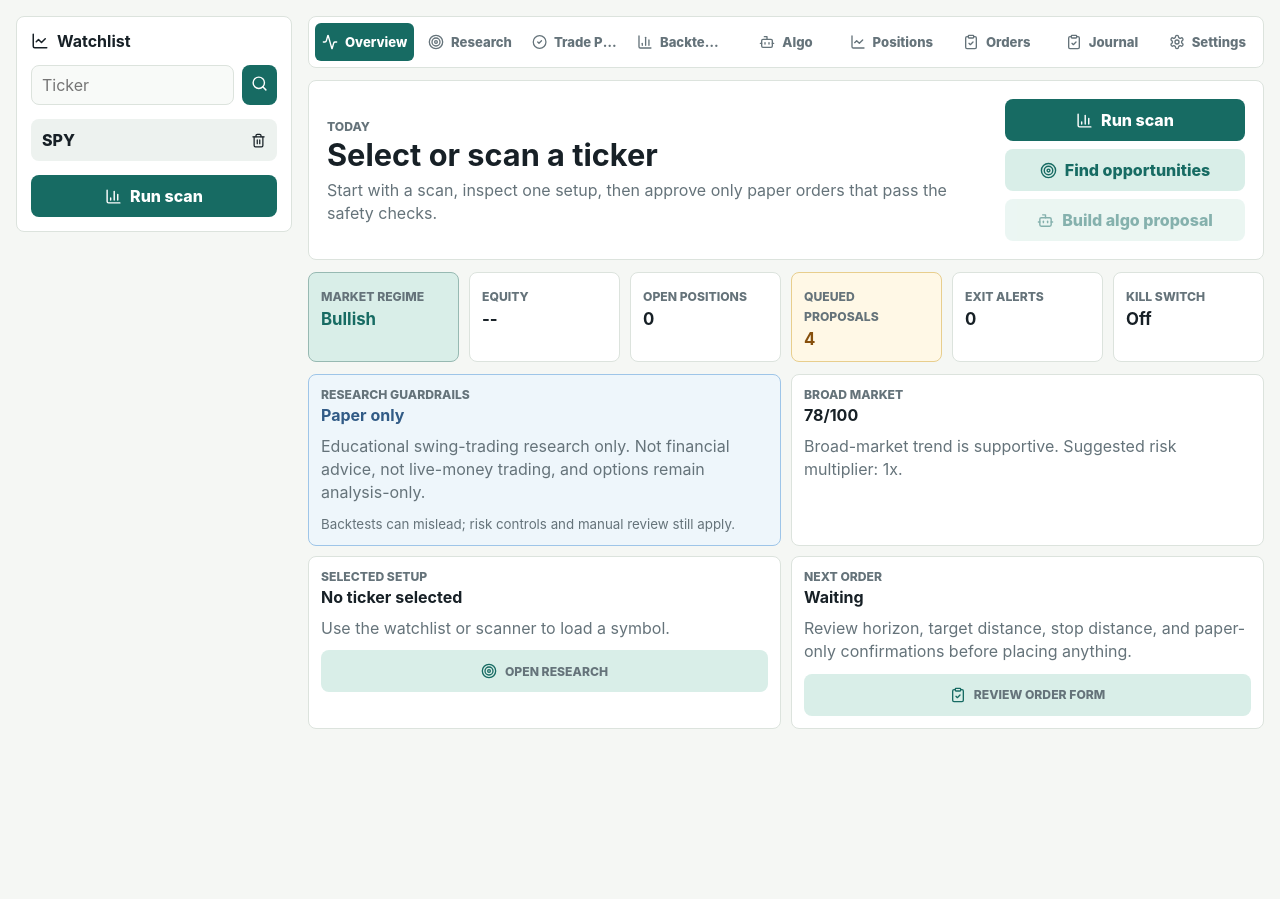
Test: dashboard › requires explicit Algo paper execution confirmations
Step 1. Click the button "Algo" → (786, 42), box [736,23,836,61]
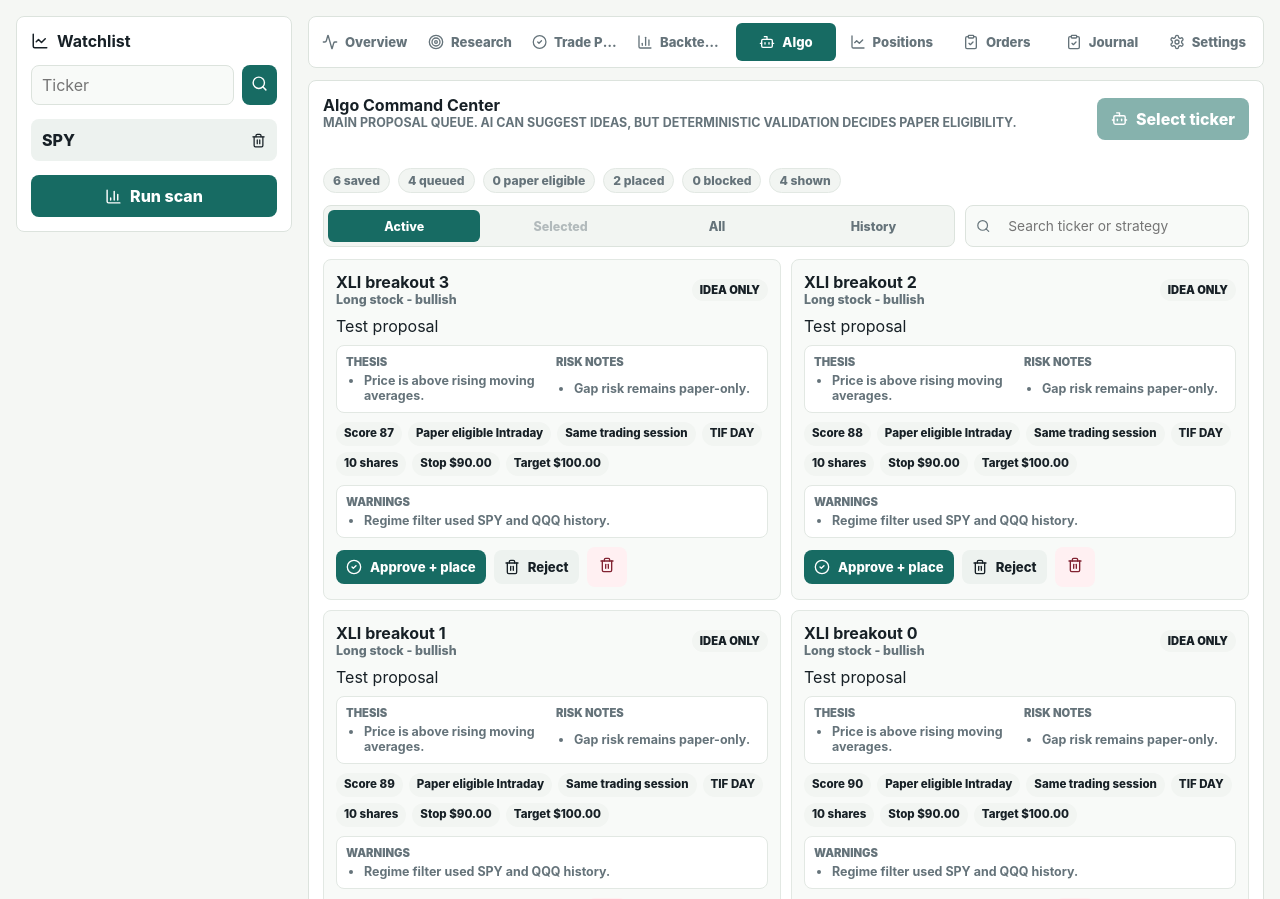
Step 2. Click the button "Approve + place" below "87" → (411, 568), box [336,550,486,584]
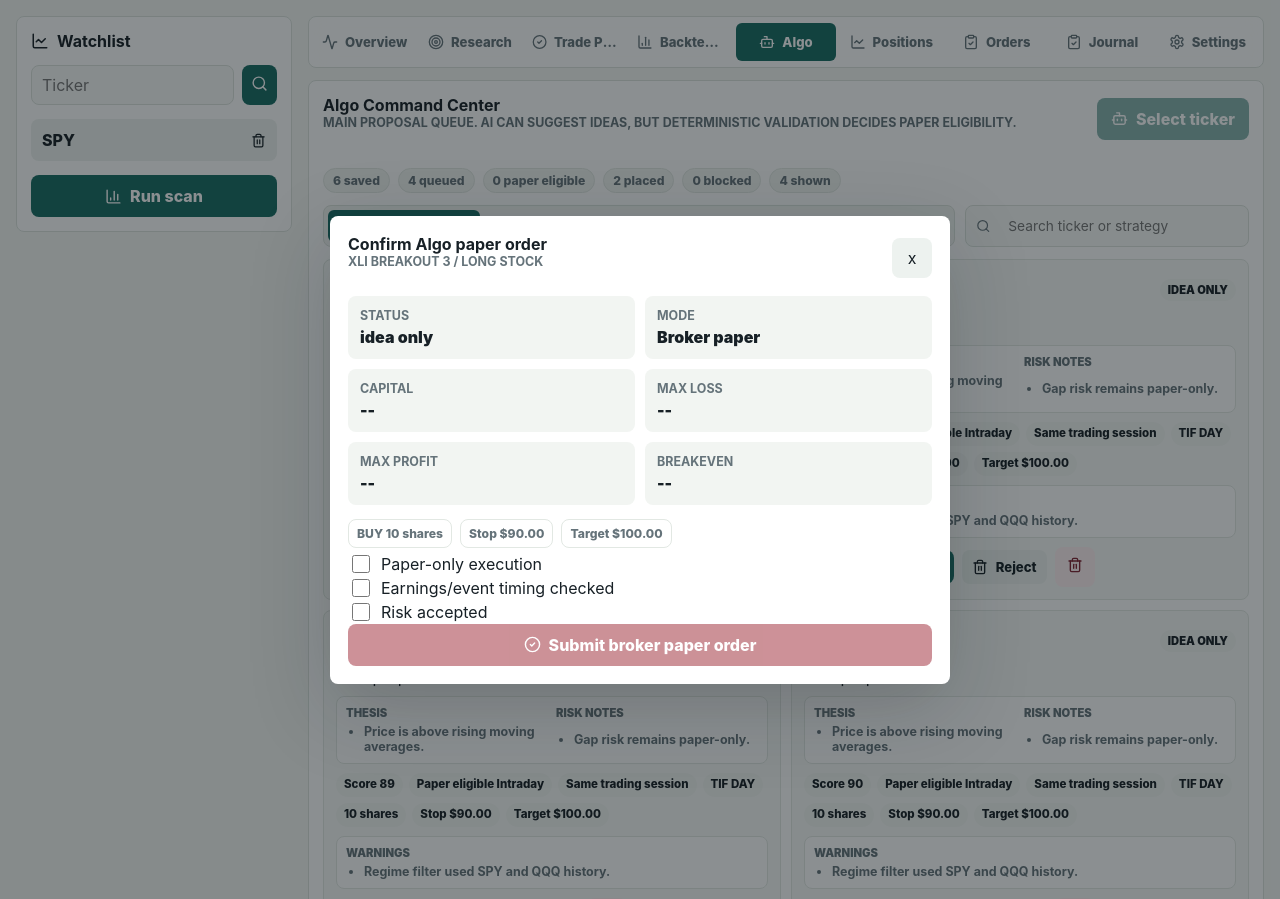
Expected: the dialog named "Confirm Algo paper execution" is shown, [330,216,950,684]
Expected: the button "Submit broker paper order" is disabled, [348,624,932,666]
Step 3. Click the checkbox labelled "Paper-only execution" → (361, 564), box [352,555,370,573]
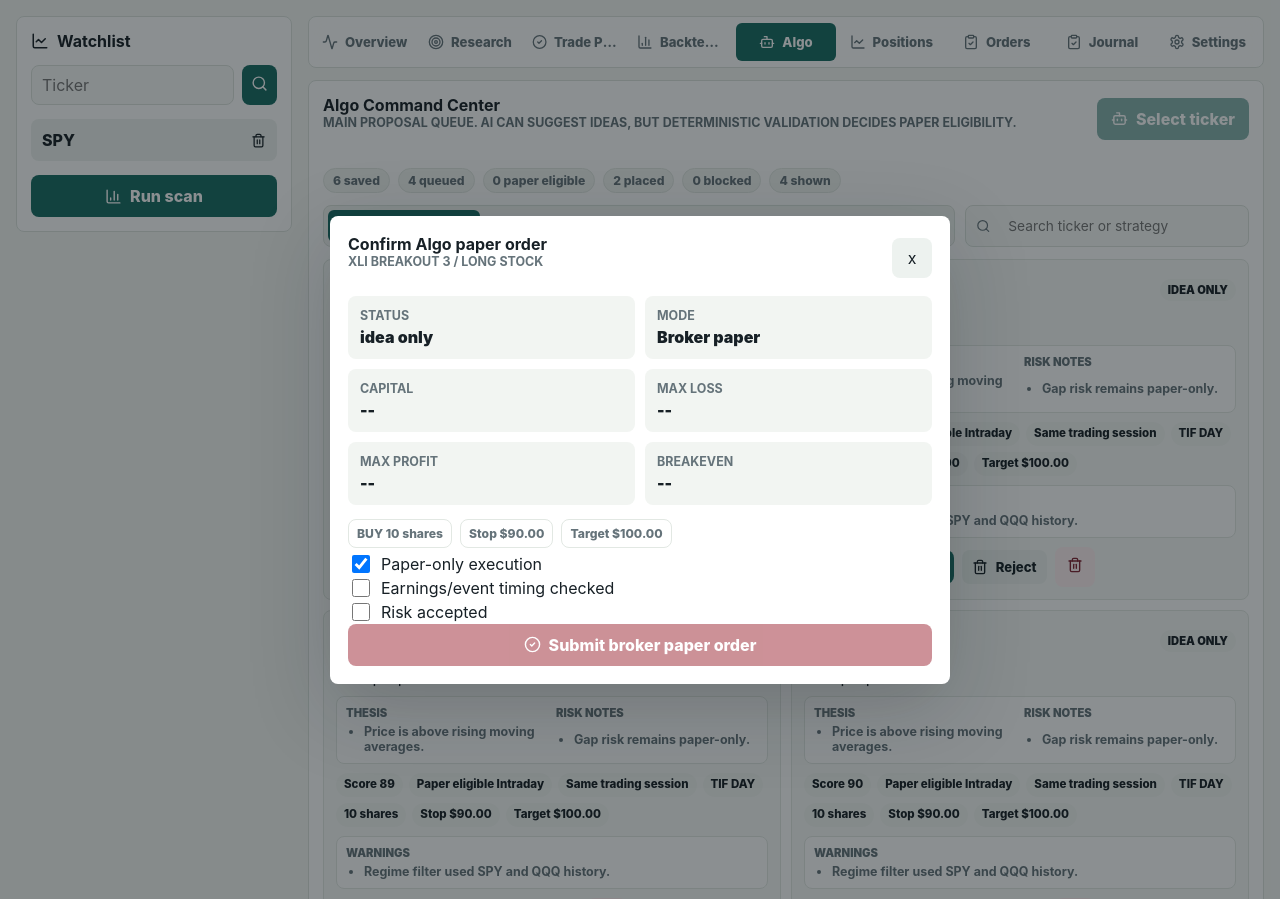
Step 4. Click the checkbox labelled "Earnings/event timing checked" → (361, 588), box [352,579,370,597]
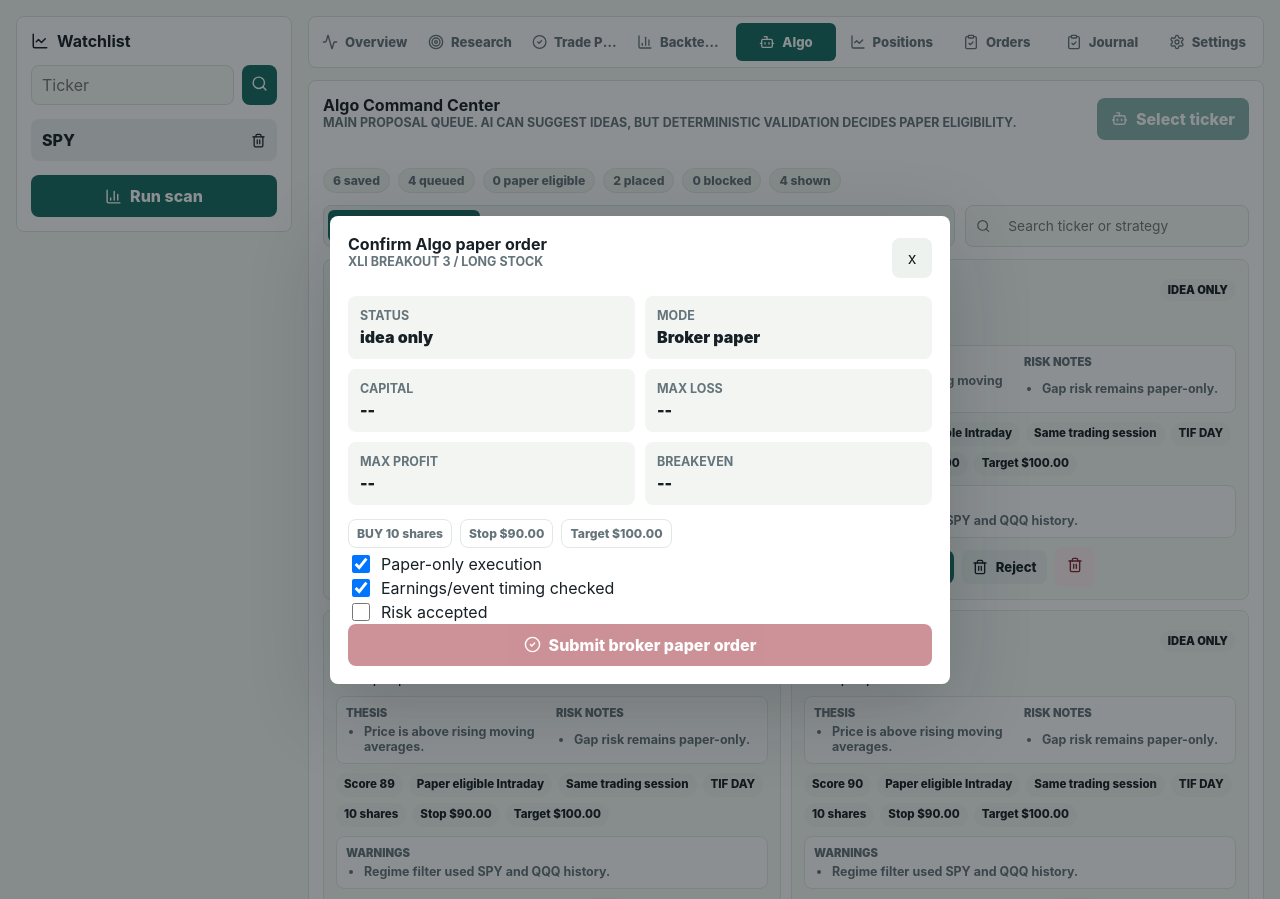
Step 5. Click the checkbox labelled "Risk accepted" → (361, 612), box [352,603,370,621]
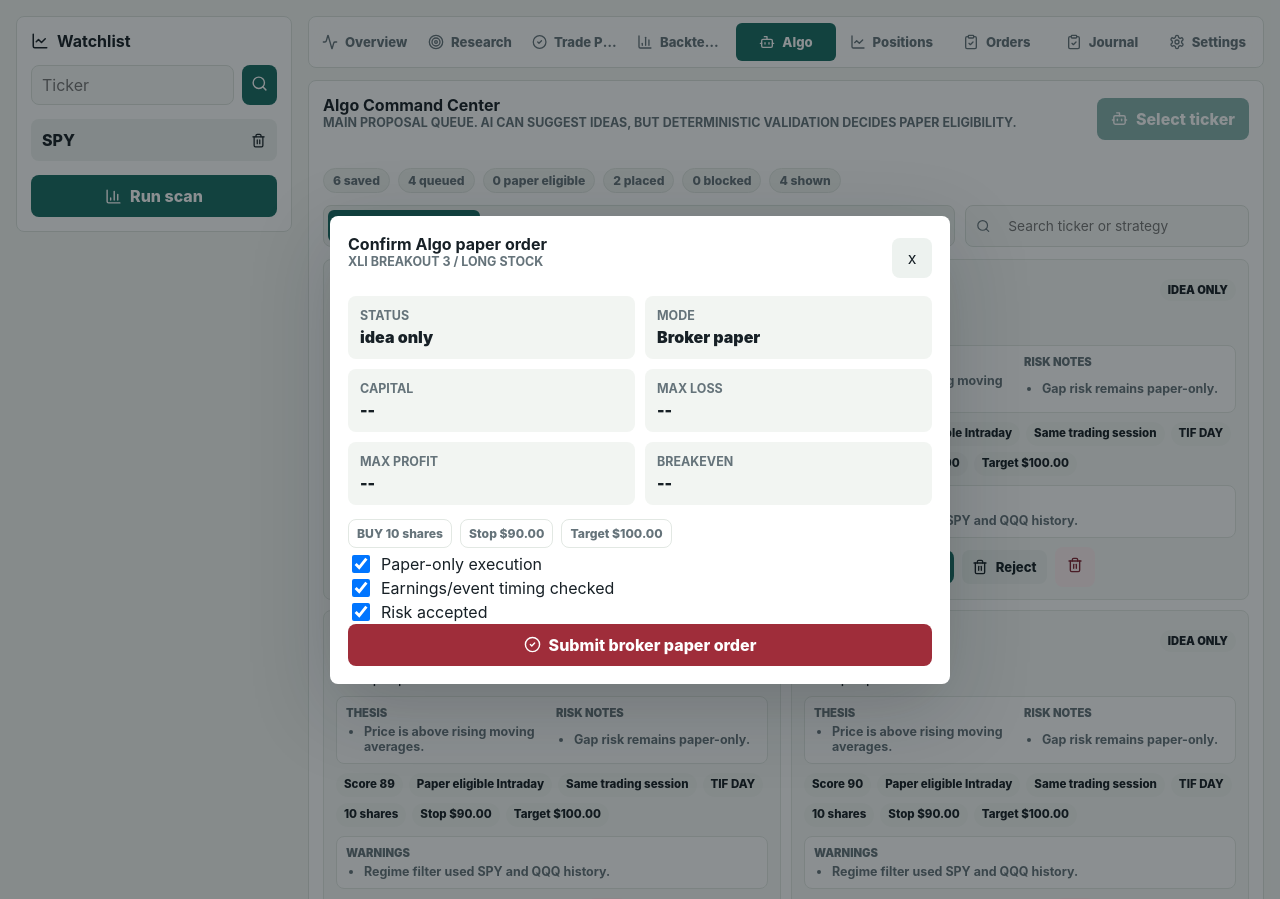
Expected: the button "Submit broker paper order" is enabled
Step 6. Click the button "Submit broker paper order" → (640, 645), box [348,624,932,666]
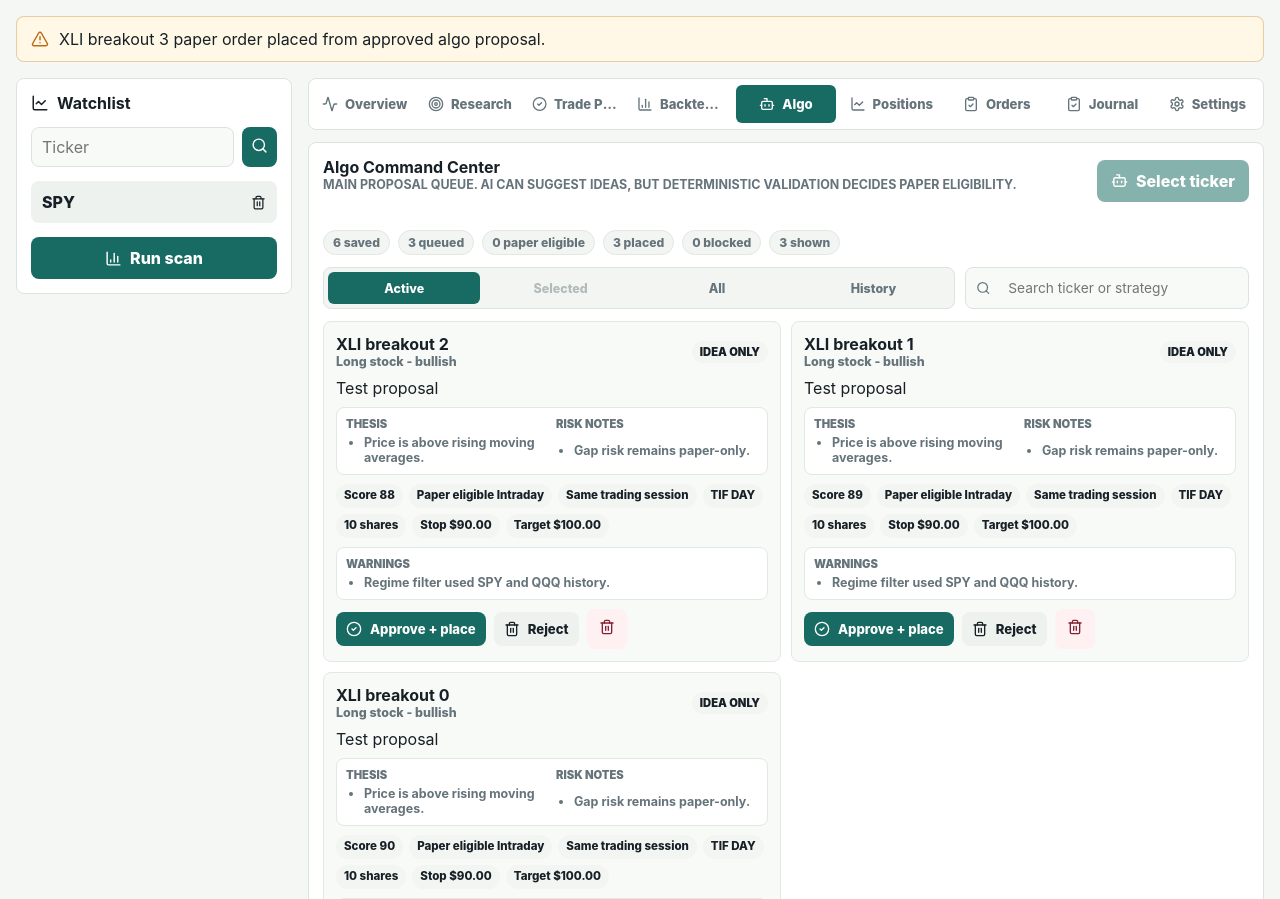
Expected: the text "paper order placed from approved algo proposal" is shown, [59,29,545,49]
